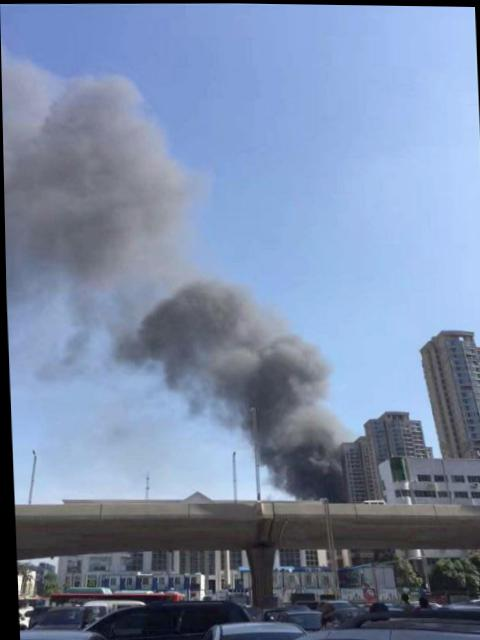smoke: (3, 144, 203, 277), (115, 274, 256, 376), (1, 62, 156, 150), (256, 317, 333, 444), (261, 439, 343, 495), (195, 375, 260, 423)
